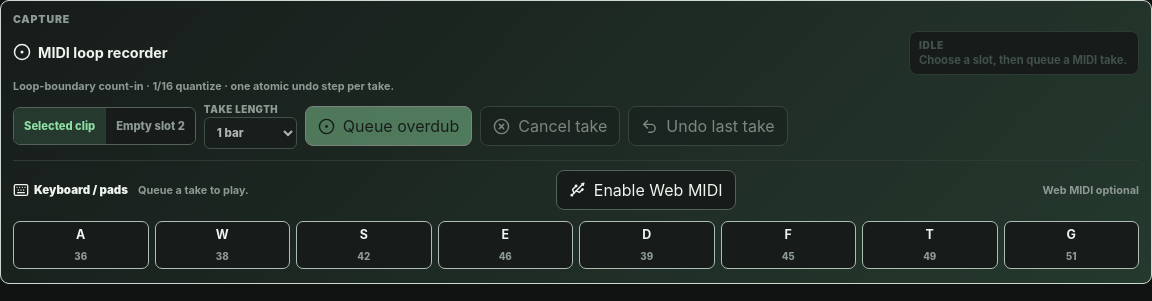
Test: MidiRecorder › survives React StrictMode effect replay and still queues a take
Click the button "Empty slot 2".
click(151, 126)  # box [106, 108, 195, 144]
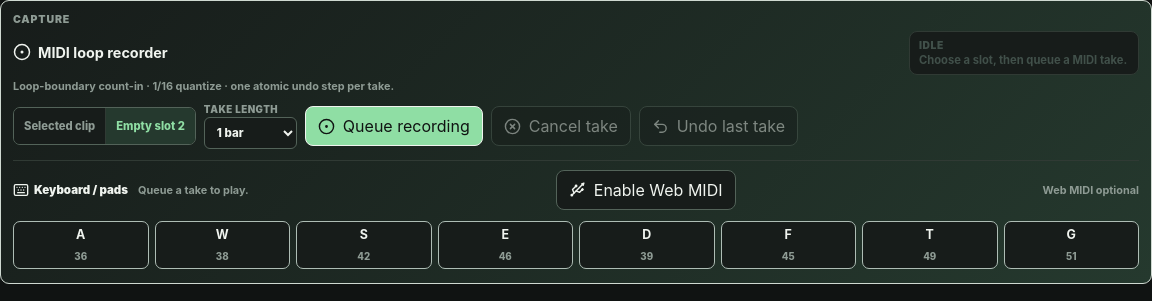
Click the button "Queue recording".
click(394, 126)  # box [305, 106, 483, 146]
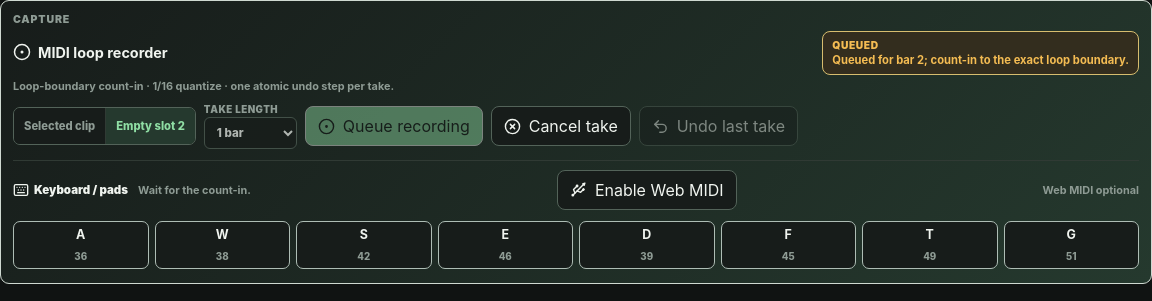
Result: the text "Queued for bar 2; count-in to the exact loop boundary." is shown at [832, 53, 1129, 67]
